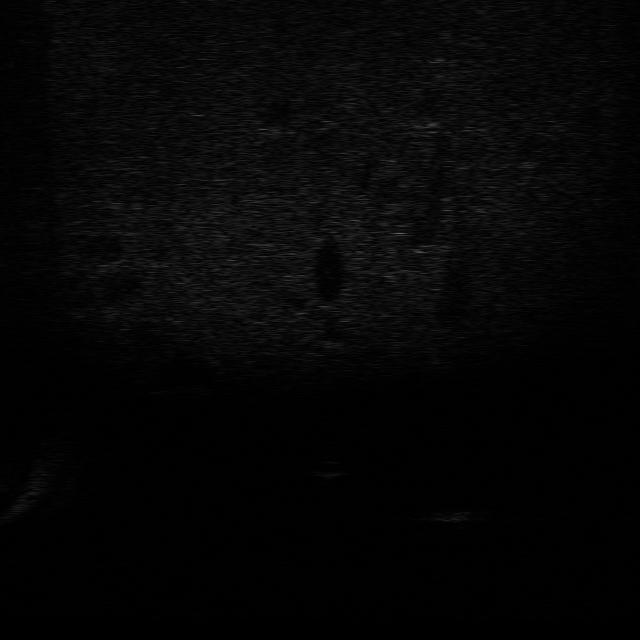ball: (302, 455, 350, 481)
square cage: (415, 500, 493, 531)
